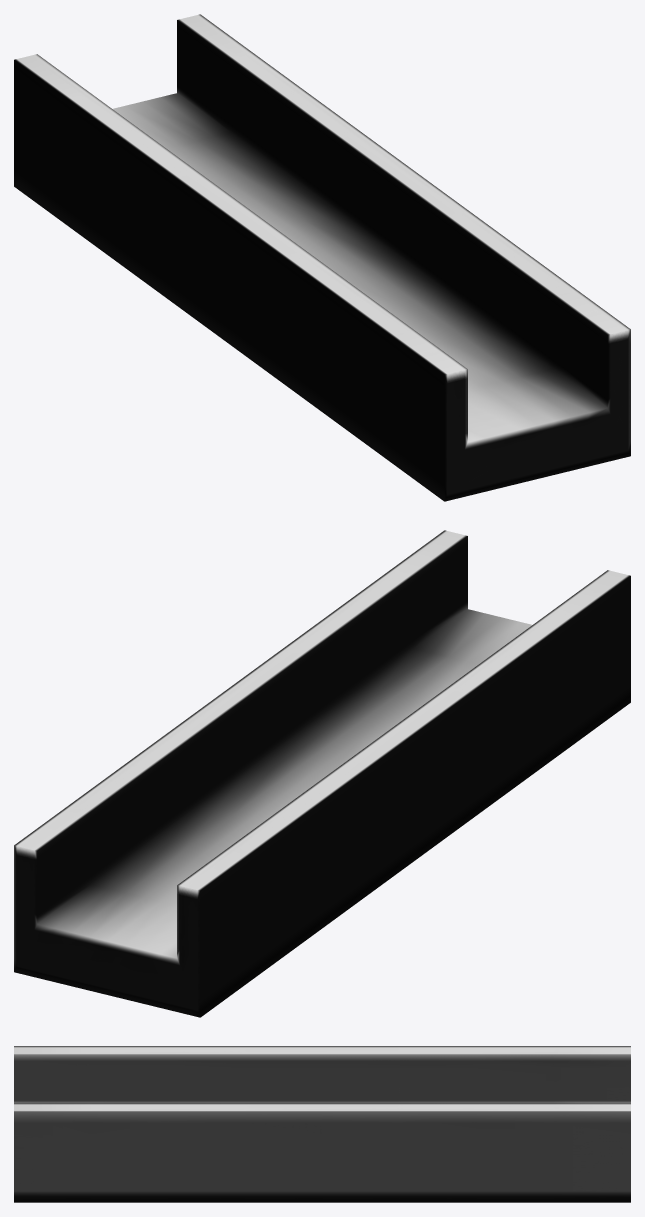
3 renders of one model, top to bottom at view 1: azimuth 30°, elevation 25°; view 2: azimuth 150°, elevation 25°; view 3: azimuth 270°, elevation 25°, orthographic. The views are drawn at different scales.
Visible parts, largest first — view 1: defaultobject; view 2: defaultobject; view 3: defaultobject.
Boxes of the visible parts, bbox=[...] form: defaultobject: bbox=[14, 14, 630, 501]; defaultobject: bbox=[14, 530, 630, 1017]; defaultobject: bbox=[14, 1046, 630, 1202].
Size of the model in its own units: 0.25 by 0.1625 by 1.
1 material, 1 textured.
